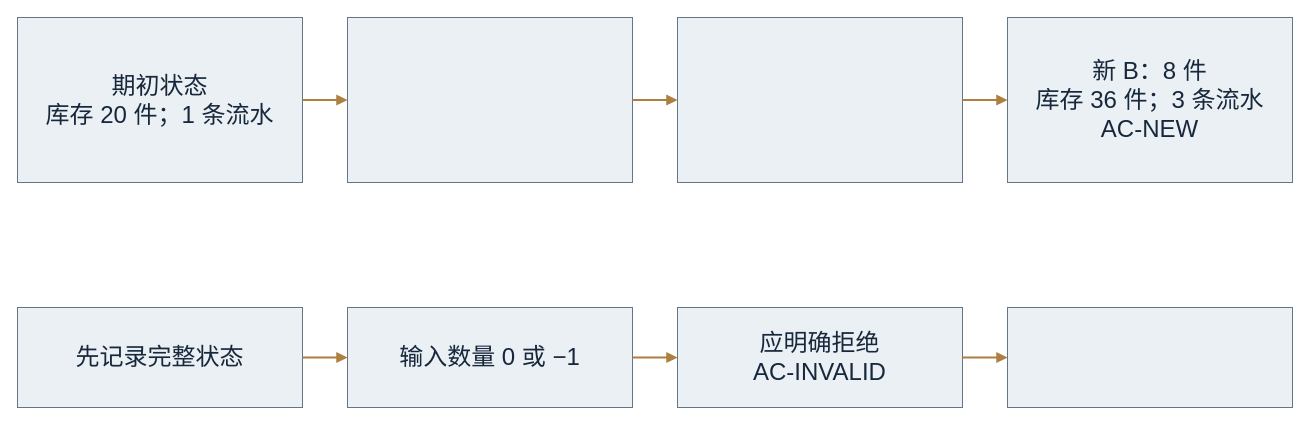
The diagram is 1310 pixels wide and 425 high, and some of its shapes have lost their labels. The centre of each missing label's shape, as x and y in pixels:
"再读状态，应完全相同 AC-UNCHANGED" belongs at pixel 1149 357.
"重试 A：8 件 库存 28 件；完整状态不变 AC-REPLAY" belongs at pixel 819 99.
"首次 A：8 件 库存 28 件；2 条流水 AC-FIRST" belongs at pixel 489 99.
